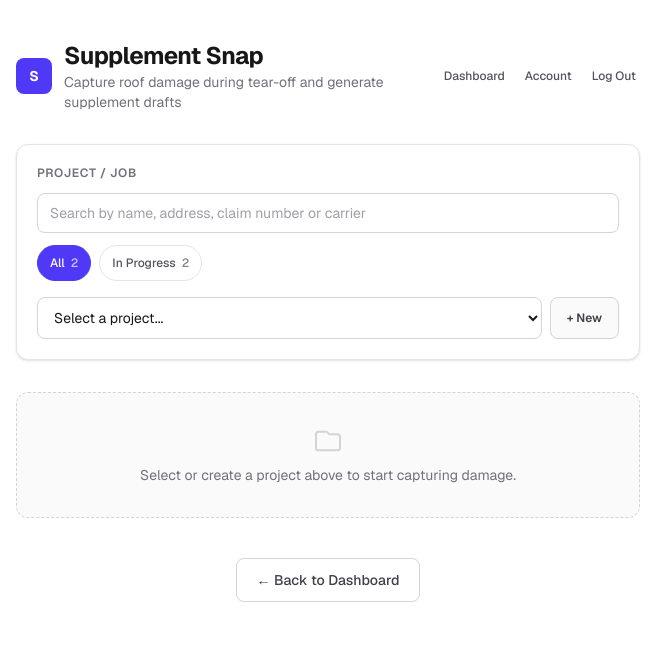
Test: dashboard smoke test (stand-in database) › puts a capture back with a message if deleting it fails after the undo window
Select "Garcia Roof (In Progress)" in the dropdown labelled "Project / Job" at {"x": 289, "y": 318}, box [37, 297, 542, 339]
(page scrolled)
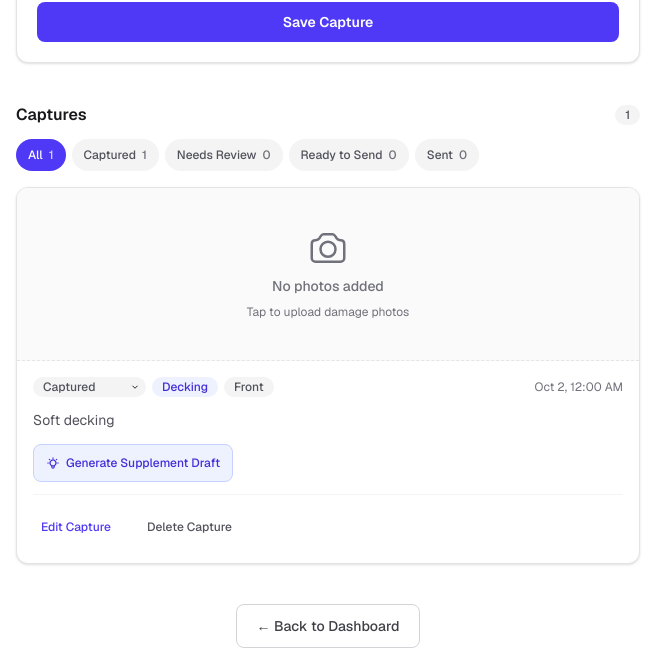
Click the button "Delete Capture" at {"x": 189, "y": 527}, box [135, 507, 244, 547]
Wait 8500 ms
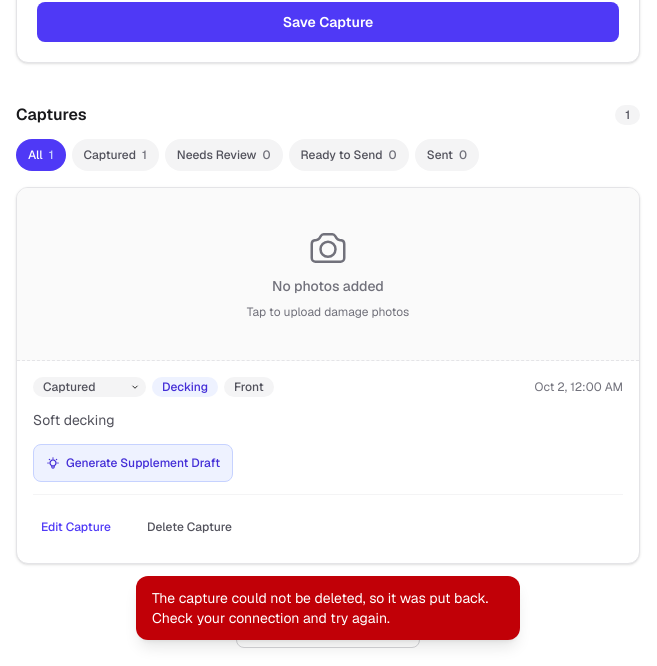
Expected: the button "Delete Capture" is shown, [135, 507, 244, 547]
Expected: the text "could not be deleted, so it was put back" is shown, [152, 589, 488, 627]
